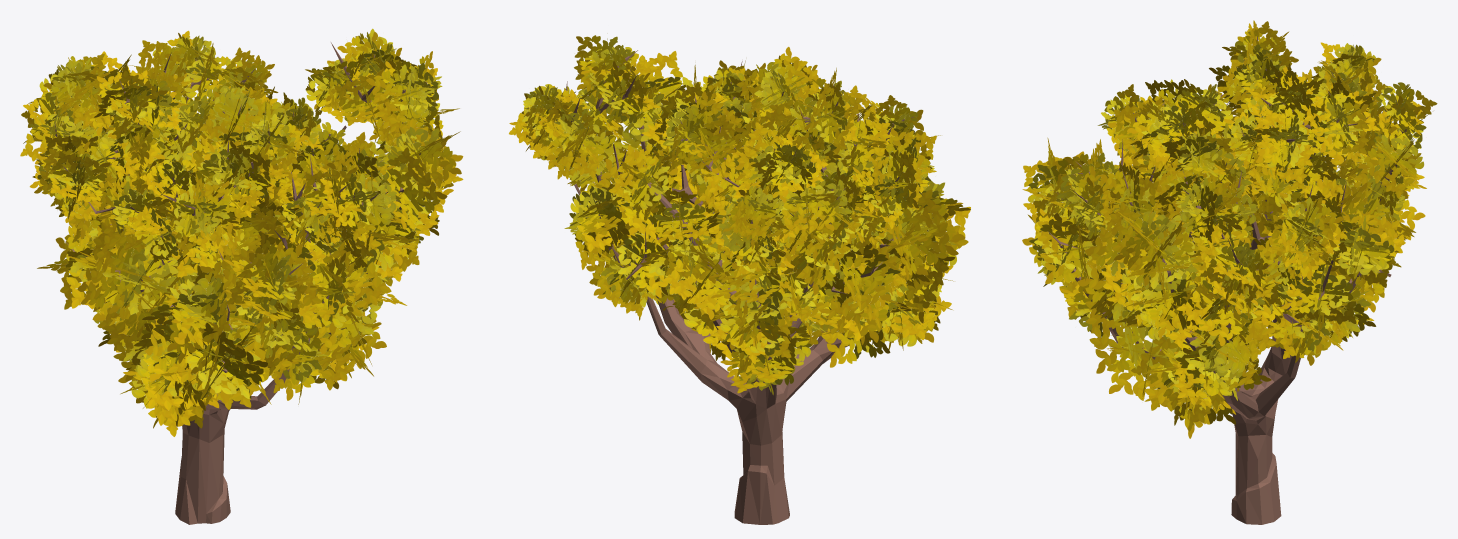
The model's file is SM_Tree_04.glb.
3 renders of one model, left to right at view 1: azimuth 30°, elevation 25°; view 2: azimuth 150°, elevation 25°; view 3: azimuth 270°, elevation 25°, orthographic. The views are drawn at different scales.
Visible parts, largest first — view 1: SM_Tree_04; view 2: SM_Tree_04; view 3: SM_Tree_04.
Part boxes in pixels (<box>): SM_Tree_04: <box>20,28,463,524</box>; SM_Tree_04: <box>509,35,970,524</box>; SM_Tree_04: <box>1022,20,1437,524</box>.
Bounding box in the file's own units: 14.18 × 15.62 × 13.12.
Materials: 2 (1 with a texture image).
